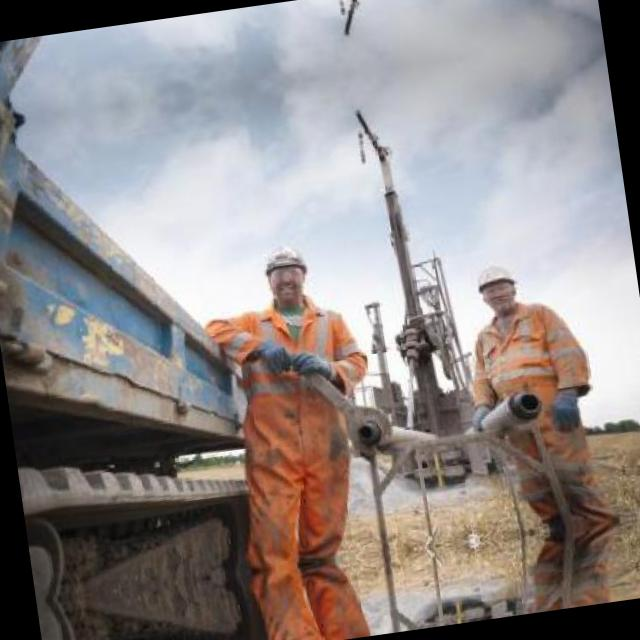helmet: (254, 233, 318, 314), (467, 256, 527, 316)
